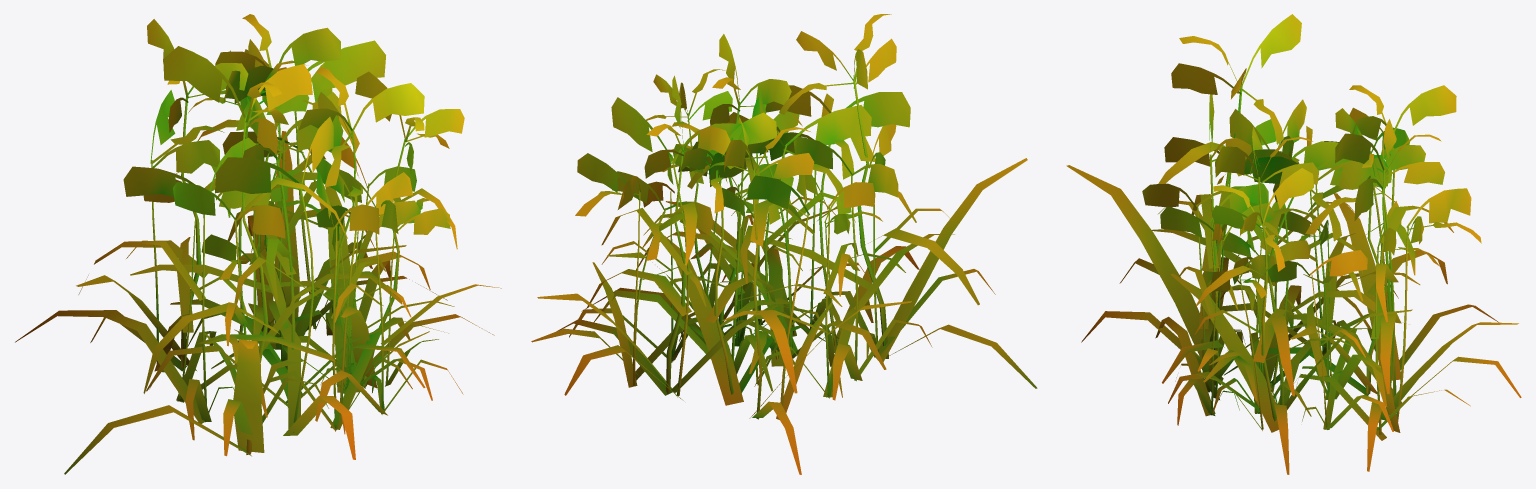
The model's file is SM_Oat_4.fbx.
3 views of the same model, side by side, from view 1: azimuth 30°, elevation 25°; view 2: azimuth 150°, elevation 25°; view 3: azimuth 270°, elevation 25° (orthographic). The views are drawn at different scales.
Visible parts, largest first — view 1: SM_Oat_4; view 2: SM_Oat_4; view 3: SM_Oat_4.
Boxes of the visible parts, x1,y1,x2,y2 form: SM_Oat_4: (15, 14, 501, 474); SM_Oat_4: (531, 14, 1037, 474); SM_Oat_4: (1066, 14, 1521, 474).
Size of the model in its own units: 2.33 by 1.81 by 2.21.
